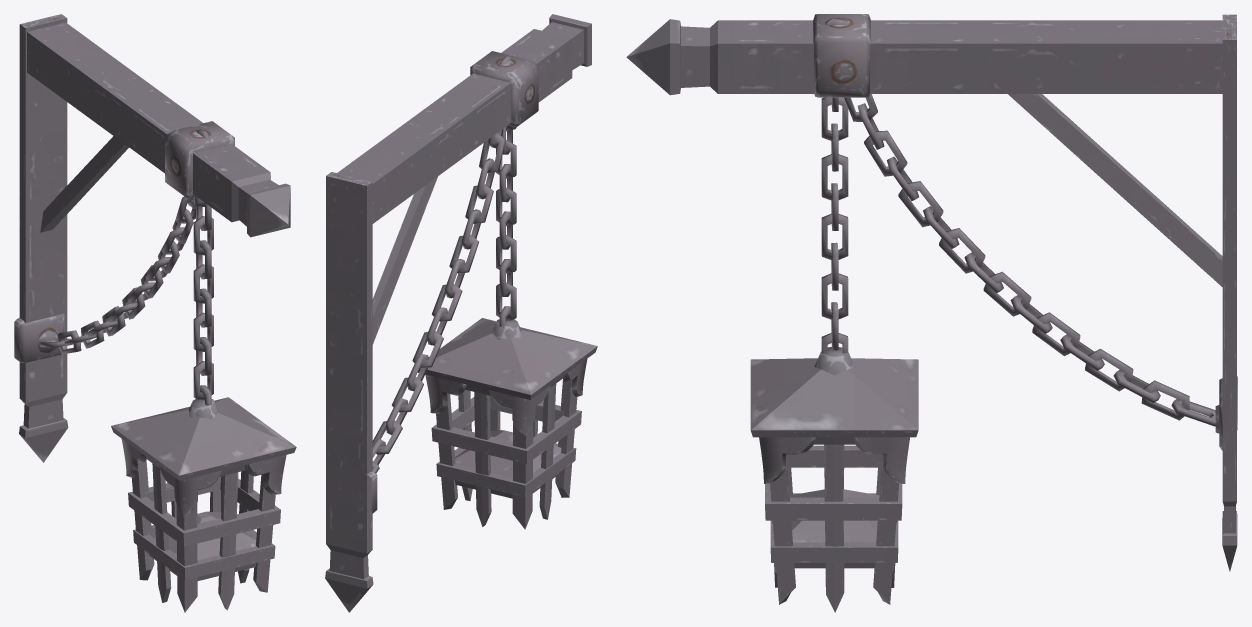
The model's file is lantern.glb.
The picture shows the model from 3 angles, left to right: view 1: azimuth 30°, elevation 25°; view 2: azimuth 150°, elevation 25°; view 3: azimuth 270°, elevation 25°; orthographic projection. The views are drawn at different scales.
Visible parts, largest first — view 1: Lantern_Wall; view 2: Lantern_Wall; view 3: Lantern_Wall.
Boxes of the visible parts, box(x1,y1,x2,y2) form: Lantern_Wall: box(14, 14, 296, 612); Lantern_Wall: box(325, 14, 597, 612); Lantern_Wall: box(626, 14, 1237, 612).
Bounding box in the file's own units: 0.3573 × 1.34 × 1.3.
1 material, 1 textured.
